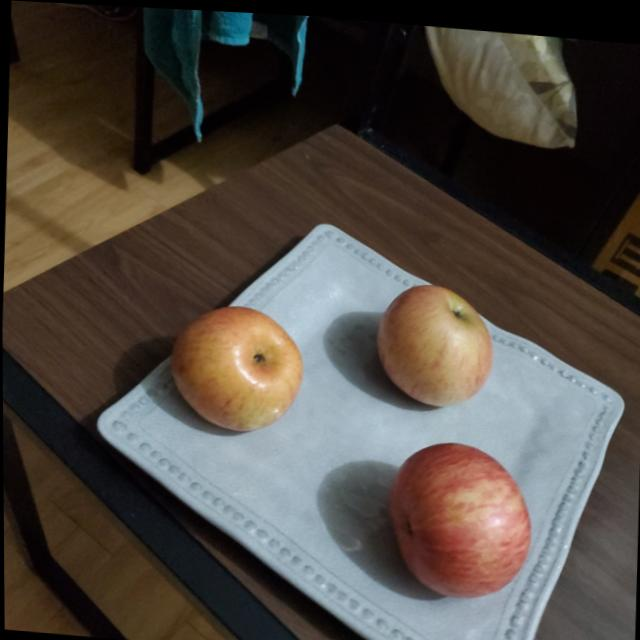apple: (385, 437, 536, 602), (170, 297, 306, 432), (374, 275, 496, 406)
